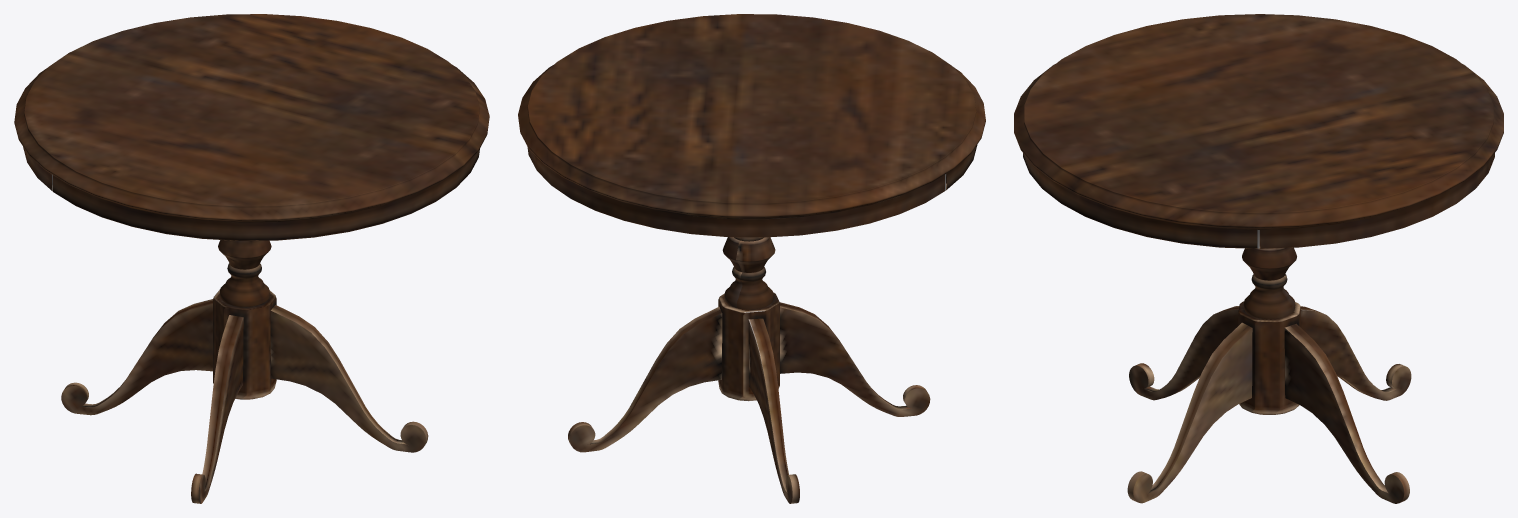
Rendered from Circular table.fbx.
3 views of the same model, side by side, from view 1: azimuth 30°, elevation 25°; view 2: azimuth 150°, elevation 25°; view 3: azimuth 270°, elevation 25° (orthographic). The views are drawn at different scales.
Visible parts, largest first — view 1: Vintage Circular Dining Table Type C Dark Wood; view 2: Vintage Circular Dining Table Type C Dark Wood; view 3: Vintage Circular Dining Table Type C Dark Wood.
Boxes of the visible parts, box(x1,y1,x2,y2) form: Vintage Circular Dining Table Type C Dark Wood: box(14, 14, 489, 503); Vintage Circular Dining Table Type C Dark Wood: box(518, 14, 985, 503); Vintage Circular Dining Table Type C Dark Wood: box(1014, 14, 1503, 503).
Size of the model in its own units: 2.02 by 1.53 by 2.02.
Materials: 1 (1 with a texture image).
